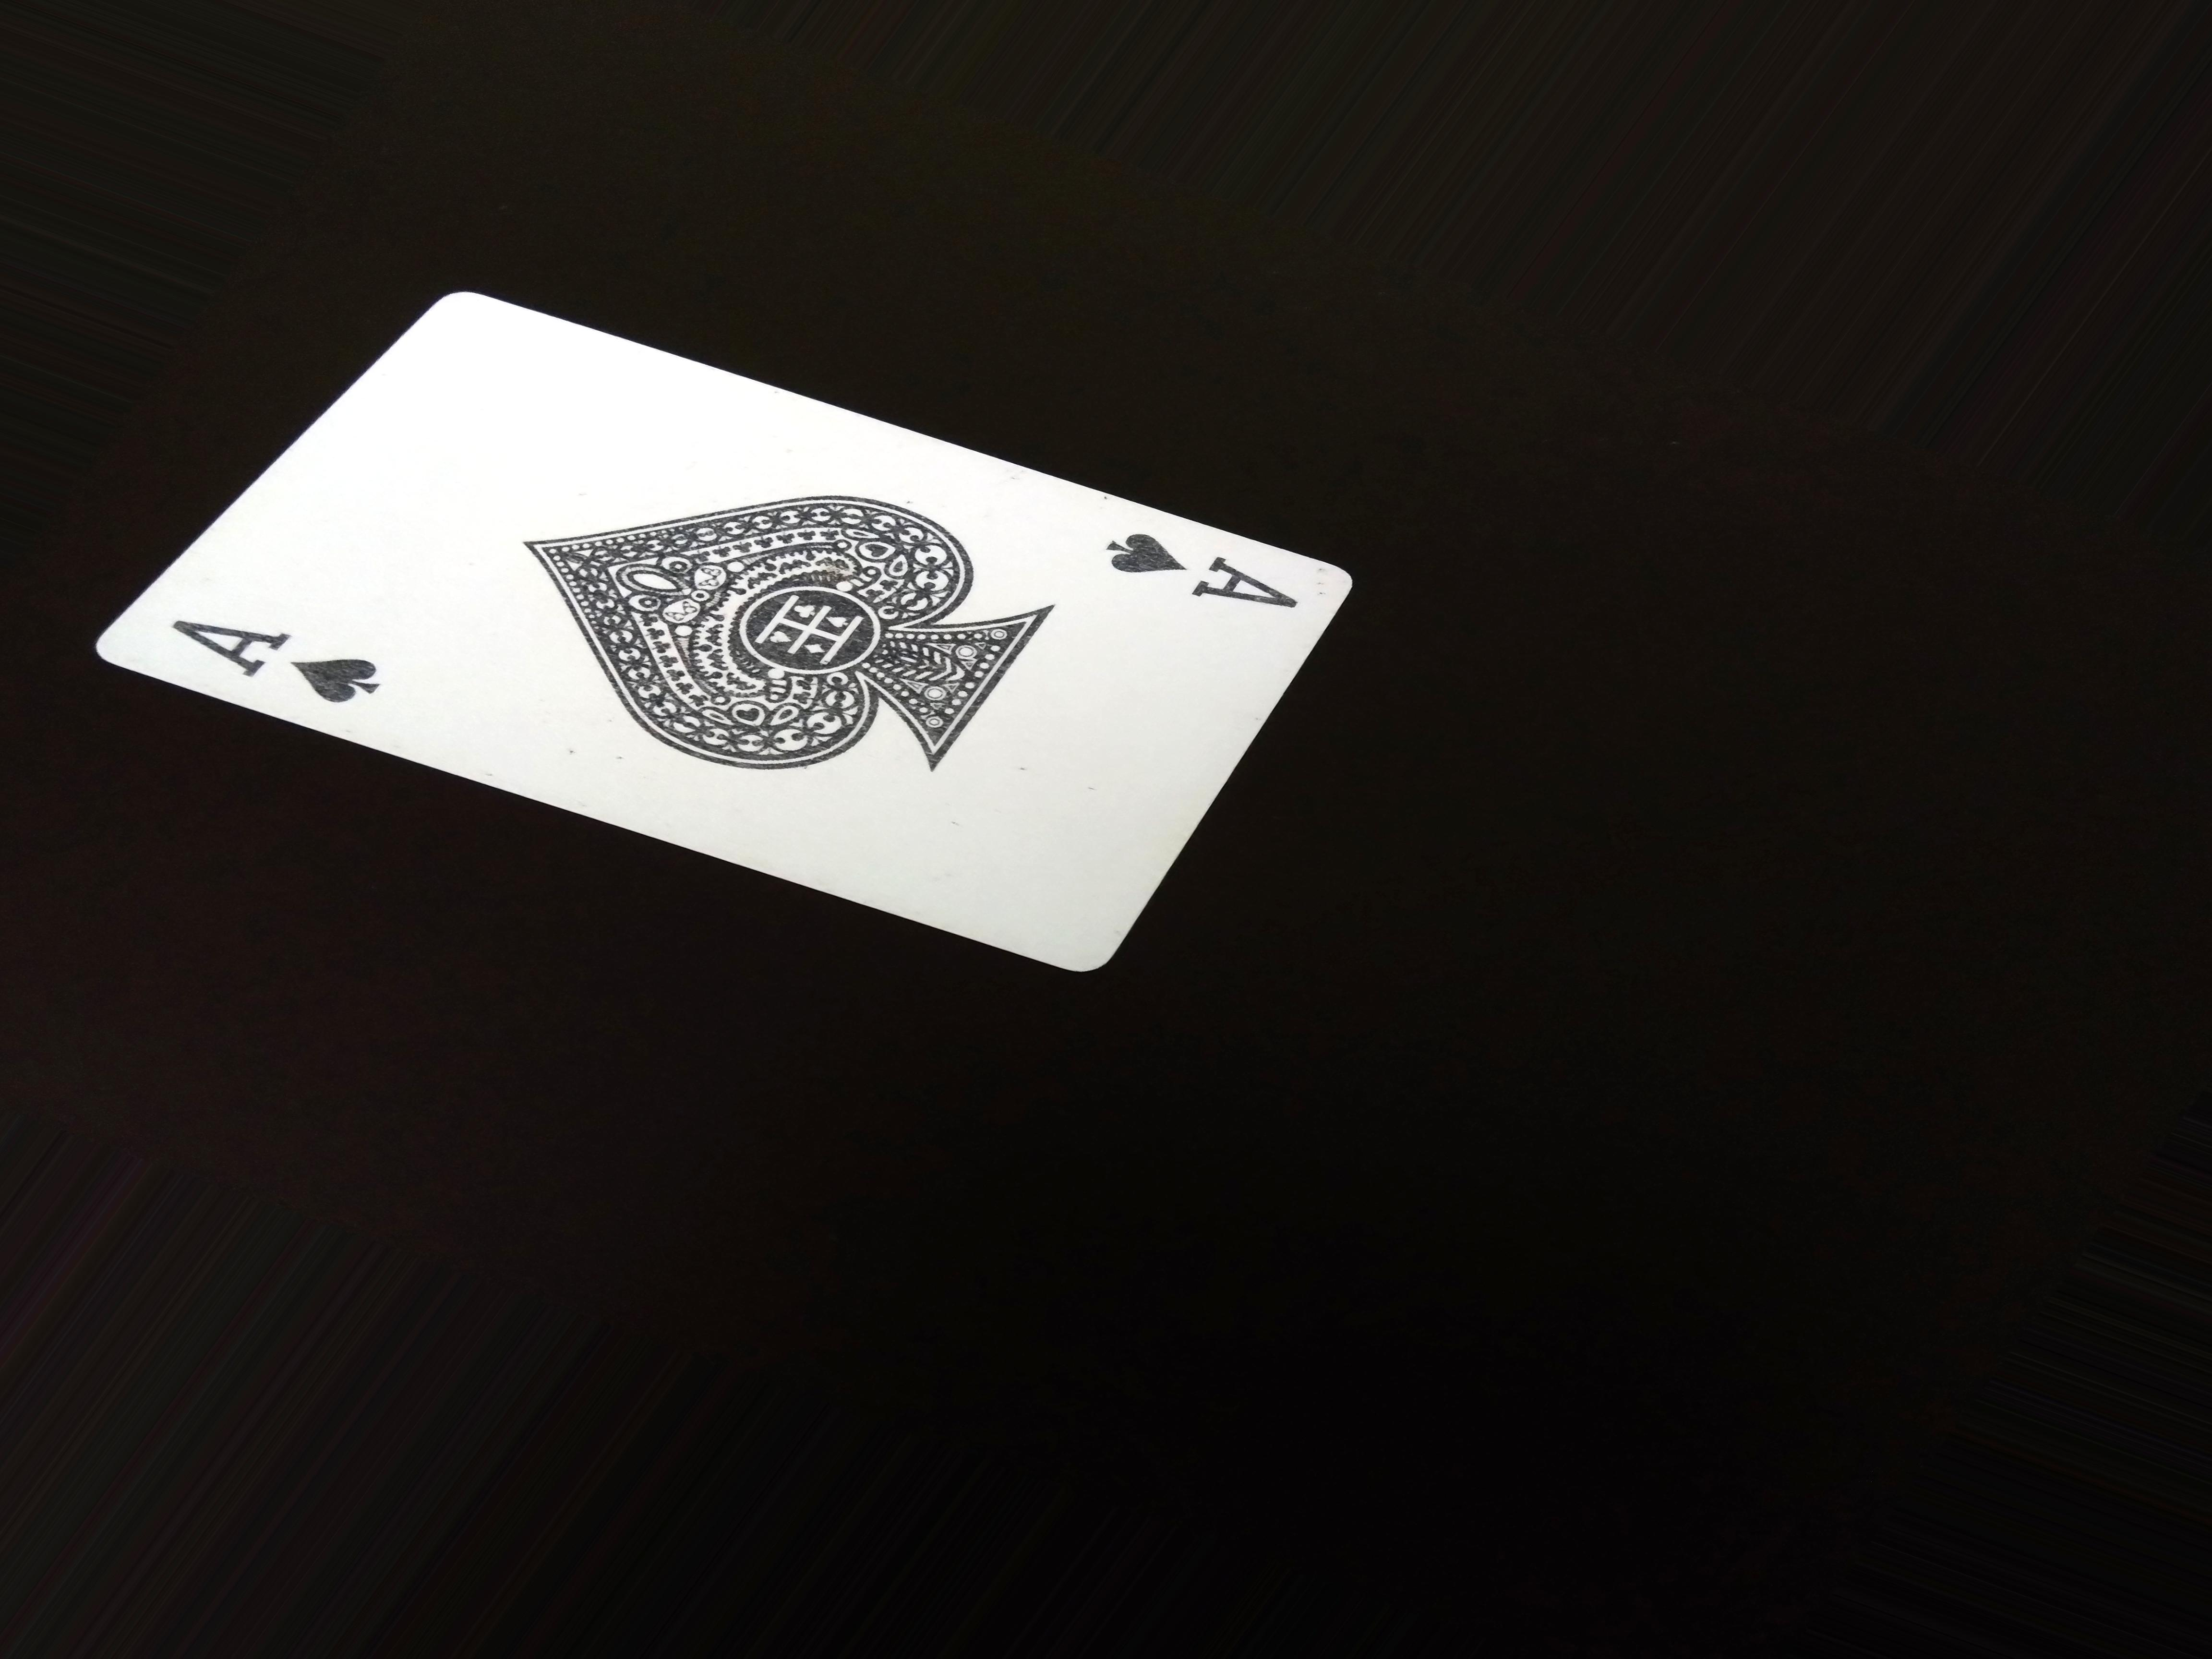AS: (171, 608, 409, 701)
